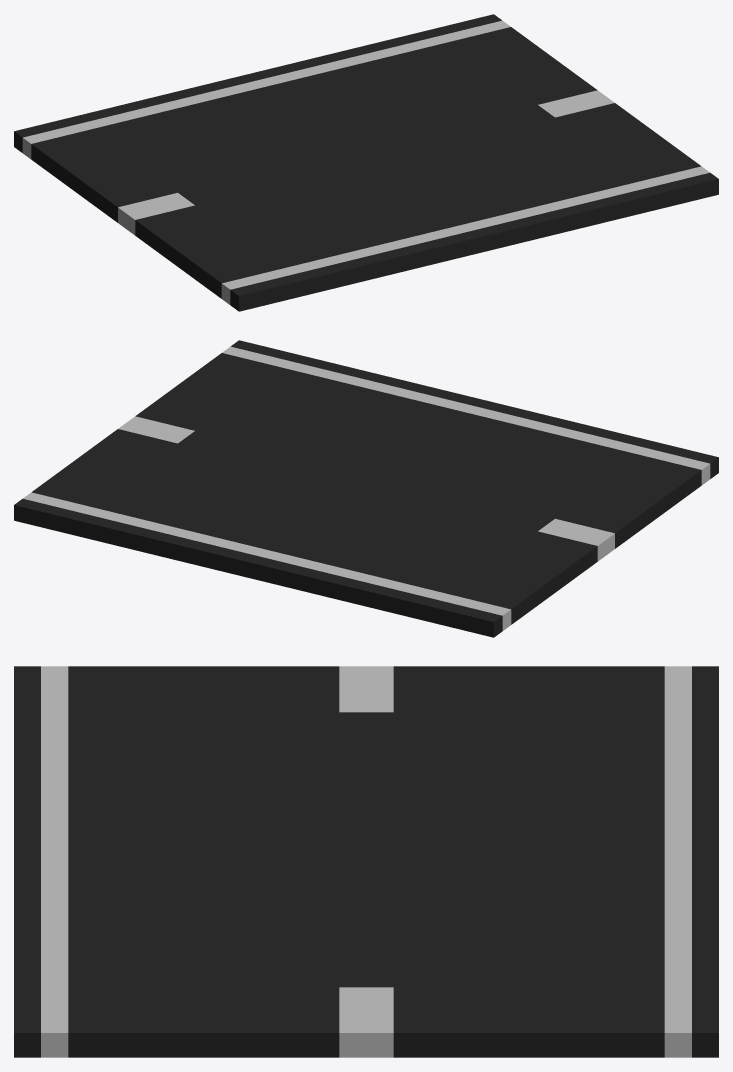
File: road-straight-3.gltf
The picture shows the model from 3 angles, top to bottom: view 1: azimuth 30°, elevation 25°; view 2: azimuth 150°, elevation 25°; view 3: azimuth 270°, elevation 25°; orthographic projection. The views are drawn at different scales.
Parts seen in each view (by area): view 1: road-straight-3; view 2: road-straight-3; view 3: road-straight-3.
Part boxes in pixels (x1,y1,x2,y2): road-straight-3: [14, 14, 718, 311]; road-straight-3: [14, 340, 718, 637]; road-straight-3: [14, 666, 718, 1057].
Size of the model in its own units: 3.2 by 0.1 by 2.6.
1 material, 1 textured.
